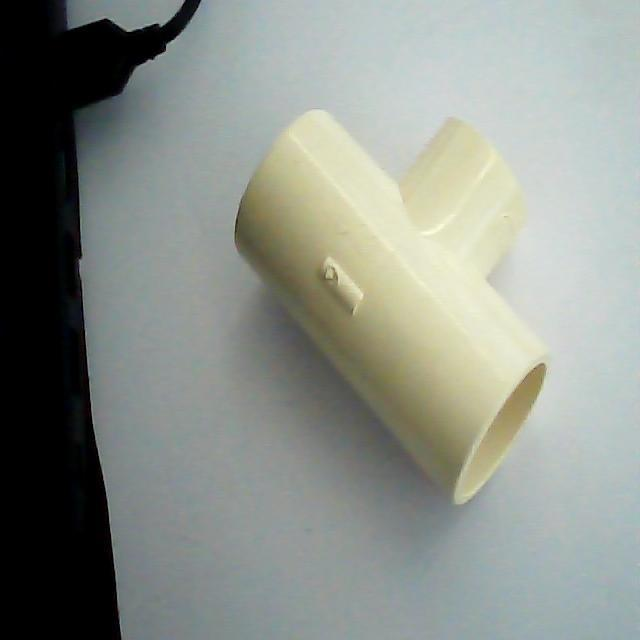T Joint: (234, 110, 549, 508)
